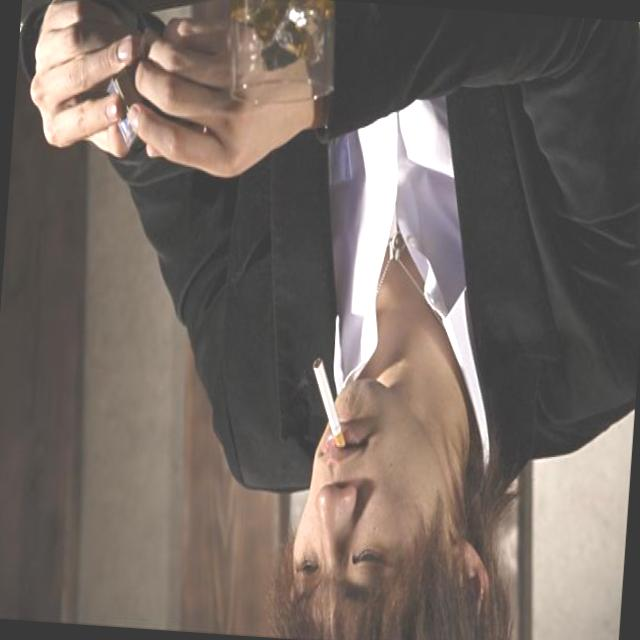smoke: (304, 354, 356, 453)
